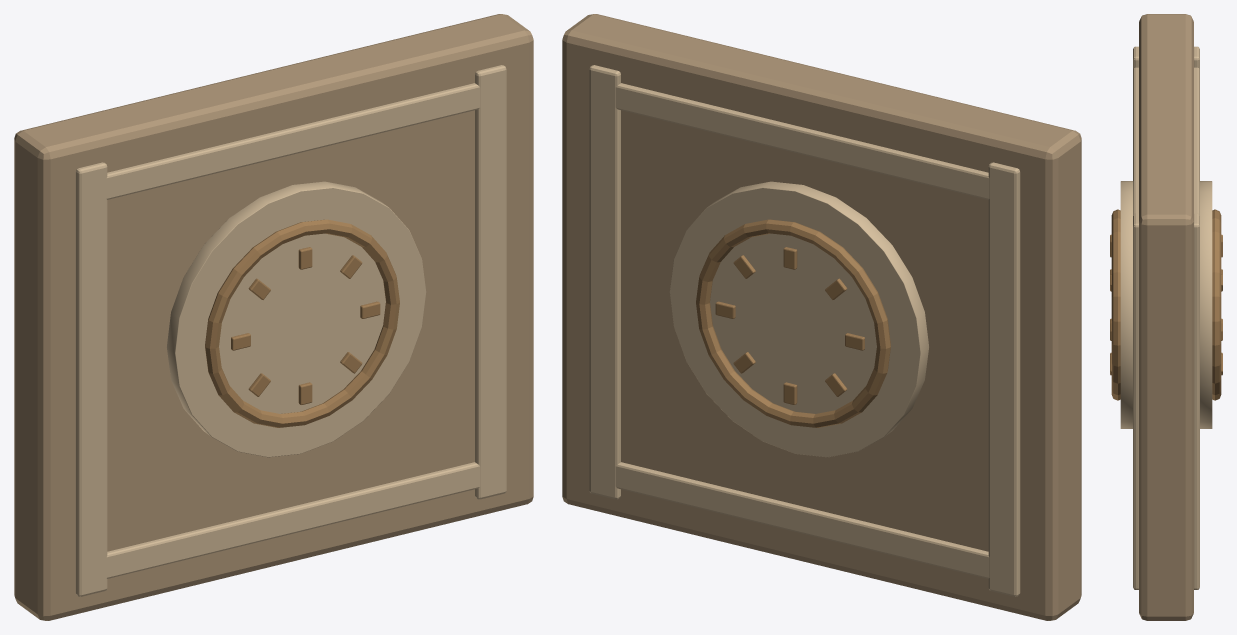
Rendered from stone-seal.glb.
The picture shows the model from 3 angles, left to right: view 1: azimuth 30°, elevation 25°; view 2: azimuth 150°, elevation 25°; view 3: azimuth 270°, elevation 25°; orthographic projection. The views are drawn at different scales.
Visible parts, largest first — view 1: Stone seal, Seal disc, Carved border, Carved border.001, Carved band.001, Carved band, Outer ring; view 2: Stone seal, Seal disc.001, Carved border.002, Carved border.003, Carved band.003, Carved band.002, Outer ring.001; view 3: Stone seal, Seal disc, Seal disc.001, Carved border.001, Carved border.003, Outer ring, Outer ring.001, Carved band.001, Carved band.003, Carved border, Carved border.002.
Part boxes in pixels (x1,y1,x2,y2): Stone seal: (14, 14, 533, 620); Seal disc: (167, 181, 426, 457); Carved border: (75, 162, 107, 596); Carved border.001: (475, 65, 506, 499); Carved band.001: (106, 83, 480, 199); Carved band: (106, 462, 480, 578); Outer ring: (205, 219, 399, 427); Stone seal: (562, 14, 1081, 620); Seal disc.001: (669, 181, 928, 457); Carved border.002: (988, 162, 1020, 596); Carved border.003: (589, 65, 620, 499); Carved band.003: (615, 83, 989, 199); Carved band.002: (615, 462, 989, 578); Outer ring.001: (696, 219, 890, 427); Stone seal: (1139, 14, 1193, 620); Seal disc: (1120, 181, 1133, 428); Seal disc.001: (1199, 181, 1212, 428); Carved border.001: (1133, 213, 1138, 589); Carved border.003: (1194, 213, 1199, 589); Outer ring: (1111, 209, 1120, 400); Outer ring.001: (1212, 209, 1221, 400); Carved band.001: (1133, 67, 1138, 214); Carved band.003: (1194, 67, 1199, 214); Carved border: (1133, 46, 1138, 180); Carved border.002: (1194, 46, 1199, 180).
Bounding box in the file's own units: 2.68 × 2.45 × 0.617.
